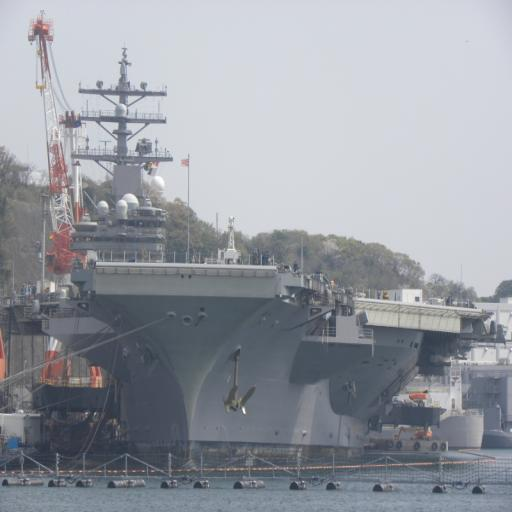Portanaves: (37, 44, 501, 479)
